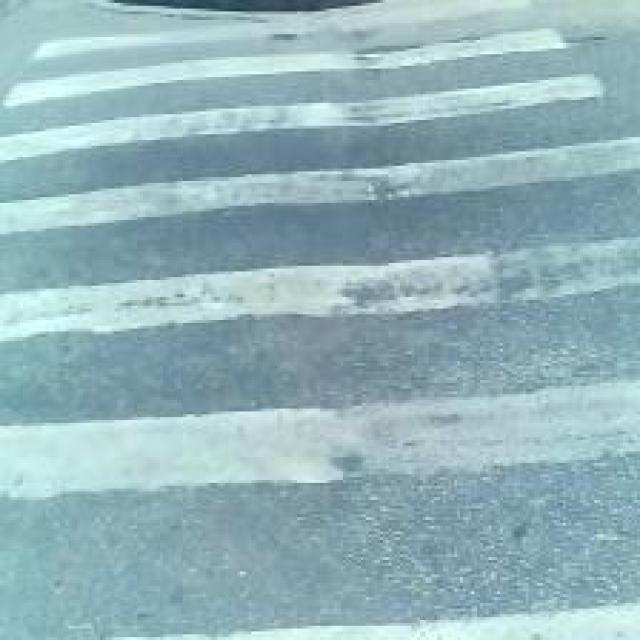walk-crossing: (34, 23, 640, 640)
